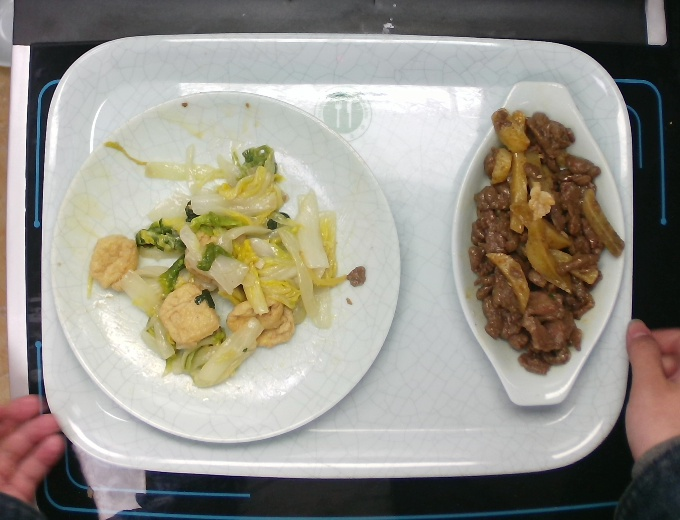JYsf-Da_Yuan_Pan: (46, 88, 405, 446)
JYsf-Yu_Pan: (447, 78, 628, 411)
